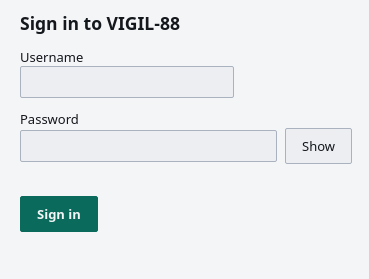
Scenario: Login › shows the lockout wait counting down and keeps the button disabled while it lasts
In the field labelled "Username": (127, 82) [20,66,234,98], type "alice"
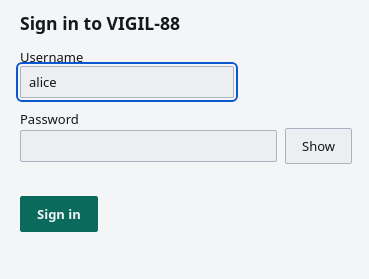
In the password field labelled "Password": (148, 146) [20,130,277,162], type "wrong wrong wrong"
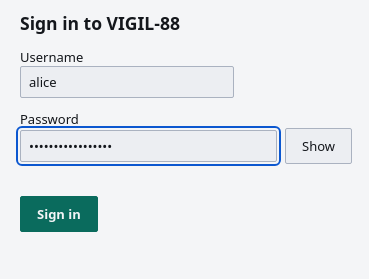
Click the button "Sign in": (59, 214) [20,196,98,232]
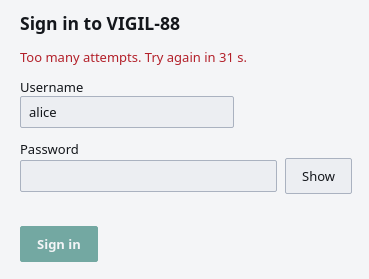
Expected: the message reads "Too many attempts. Try again in 31 s.", [20,48,247,66]
Expected: the button "Sign in" is disabled, [20,226,98,262]
